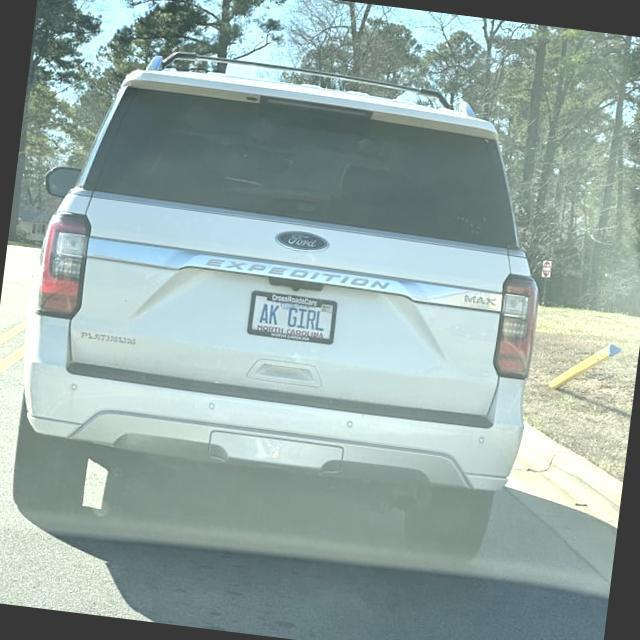license-plate: (237, 279, 366, 375)
